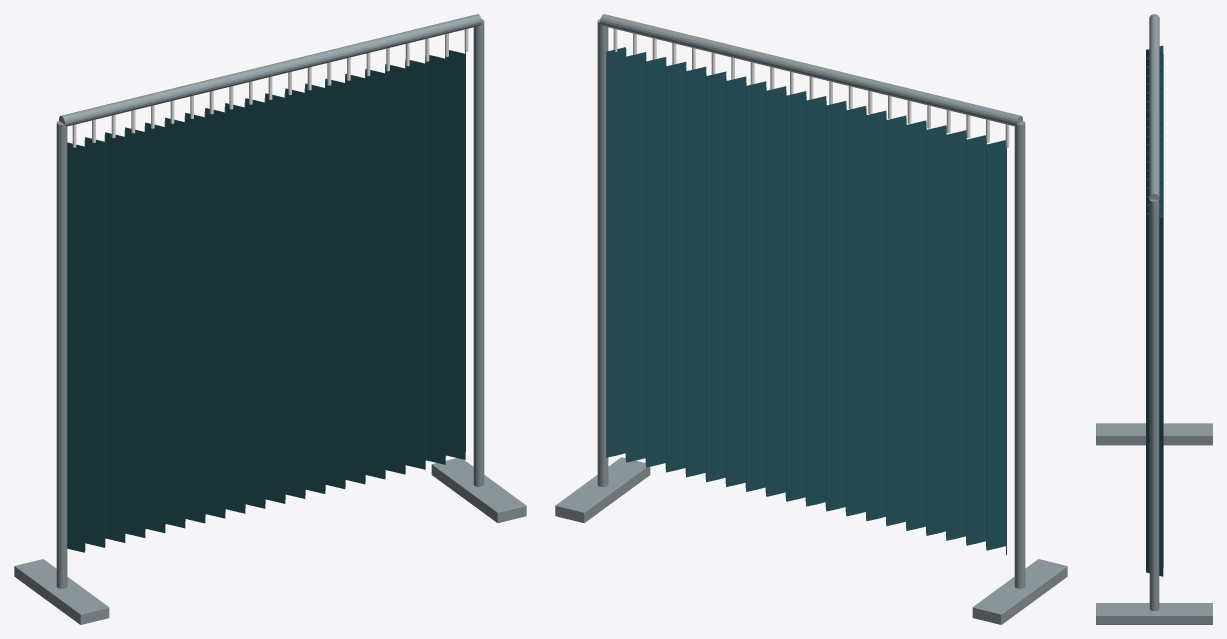
Rendered from hospital-curtain.glb.
3 views of the same model, side by side, from view 1: azimuth 30°, elevation 25°; view 2: azimuth 150°, elevation 25°; view 3: azimuth 270°, elevation 25° (orthographic). The views are drawn at different scales.
Visible parts, largest first — view 1: Pleated_Fabric, Post, Post.001, Curtain_Track, Foot, Foot.001; view 2: Pleated_Fabric, Post, Curtain_Track, Post.001, Foot, Foot.001; view 3: Pleated_Fabric, Post.001, Foot.001, Foot, Curtain_Track.
Boxes of the visible parts, bbox=[...] form: Pleated_Fabric: bbox=[67, 49, 465, 552]; Post: bbox=[56, 121, 67, 588]; Post.001: bbox=[473, 19, 484, 486]; Curtain_Track: bbox=[59, 14, 481, 126]; Foot: bbox=[14, 559, 109, 624]; Foot.001: bbox=[431, 458, 526, 523]; Pleated_Fabric: bbox=[606, 47, 1006, 555]; Post: bbox=[1014, 121, 1025, 588]; Curtain_Track: bbox=[600, 14, 1022, 126]; Post.001: bbox=[597, 19, 608, 486]; Foot: bbox=[972, 559, 1067, 624]; Foot.001: bbox=[555, 457, 650, 523]; Pleated_Fabric: bbox=[1146, 45, 1163, 576]; Post.001: bbox=[1149, 199, 1159, 611]; Foot.001: bbox=[1096, 603, 1212, 624]; Foot: bbox=[1096, 423, 1212, 445]; Curtain_Track: bbox=[1149, 14, 1159, 199].
Size of the model in its own units: 2.14 by 2.21 by 0.55.
